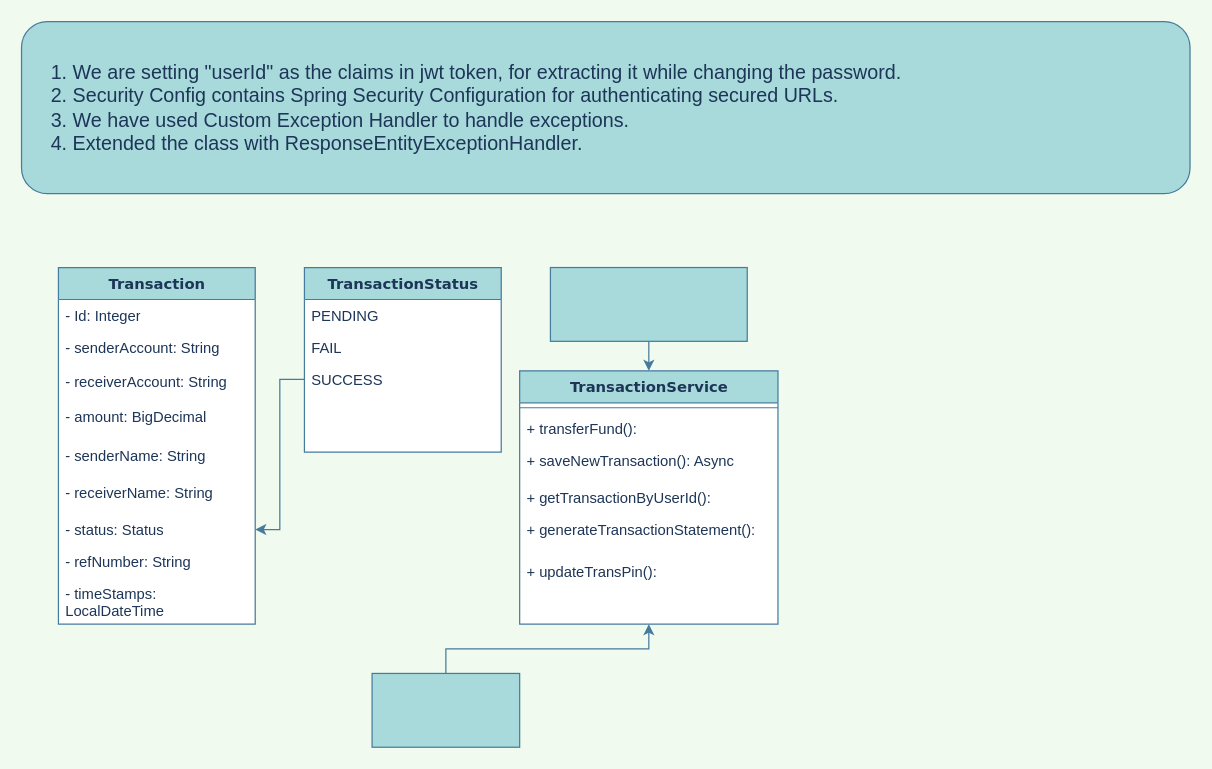
Image size: 1212x769. Some labels were removed from this diagram. The shapes that lost their labels are listed below. From the top down, each one's centre as x and y in pixels, then its label:
(648,303): Generates a 10 Digit Ref Number using SecureRandom
(445,709): We are also providing pdf for transaction report.
